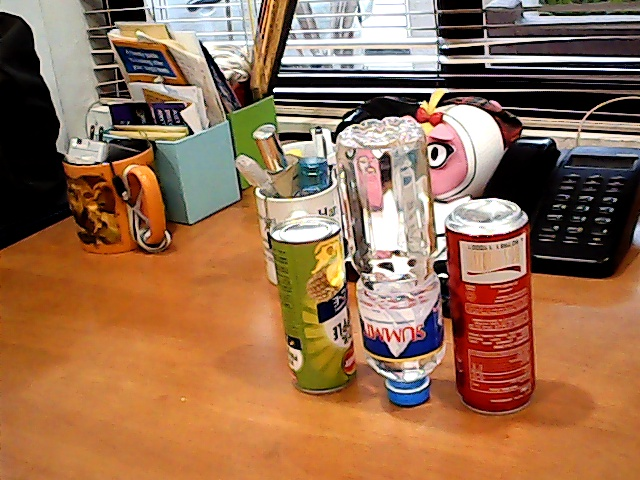Cola: (440, 198, 550, 417)
Pine Juice: (274, 209, 360, 399)
Summit Water: (352, 158, 447, 410)
